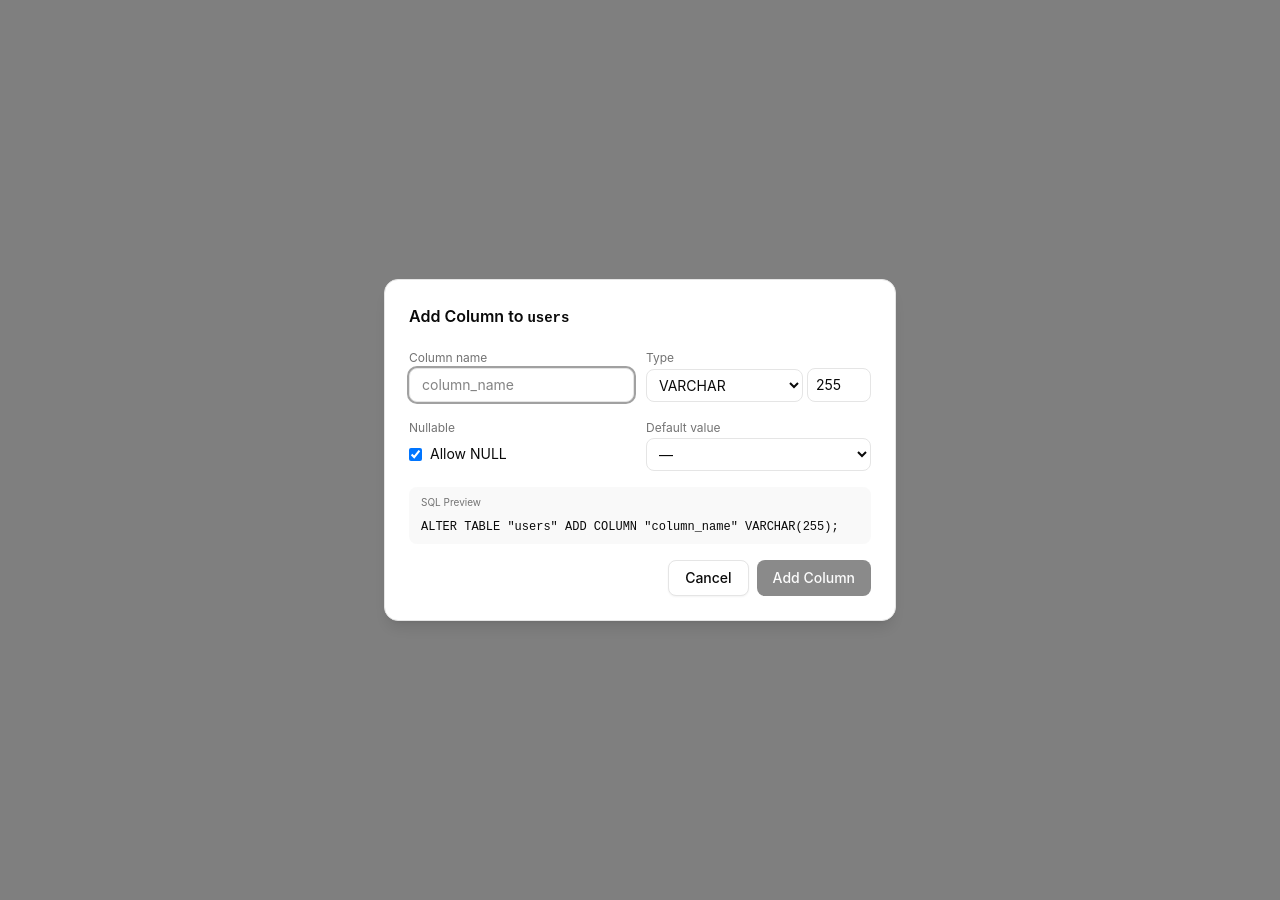
Test: SQL preview — postgres quoting › includes DEFAULT with literal value
Type "email" into the field with placeholder "column_name" at (522,385), box [409,368,634,402]
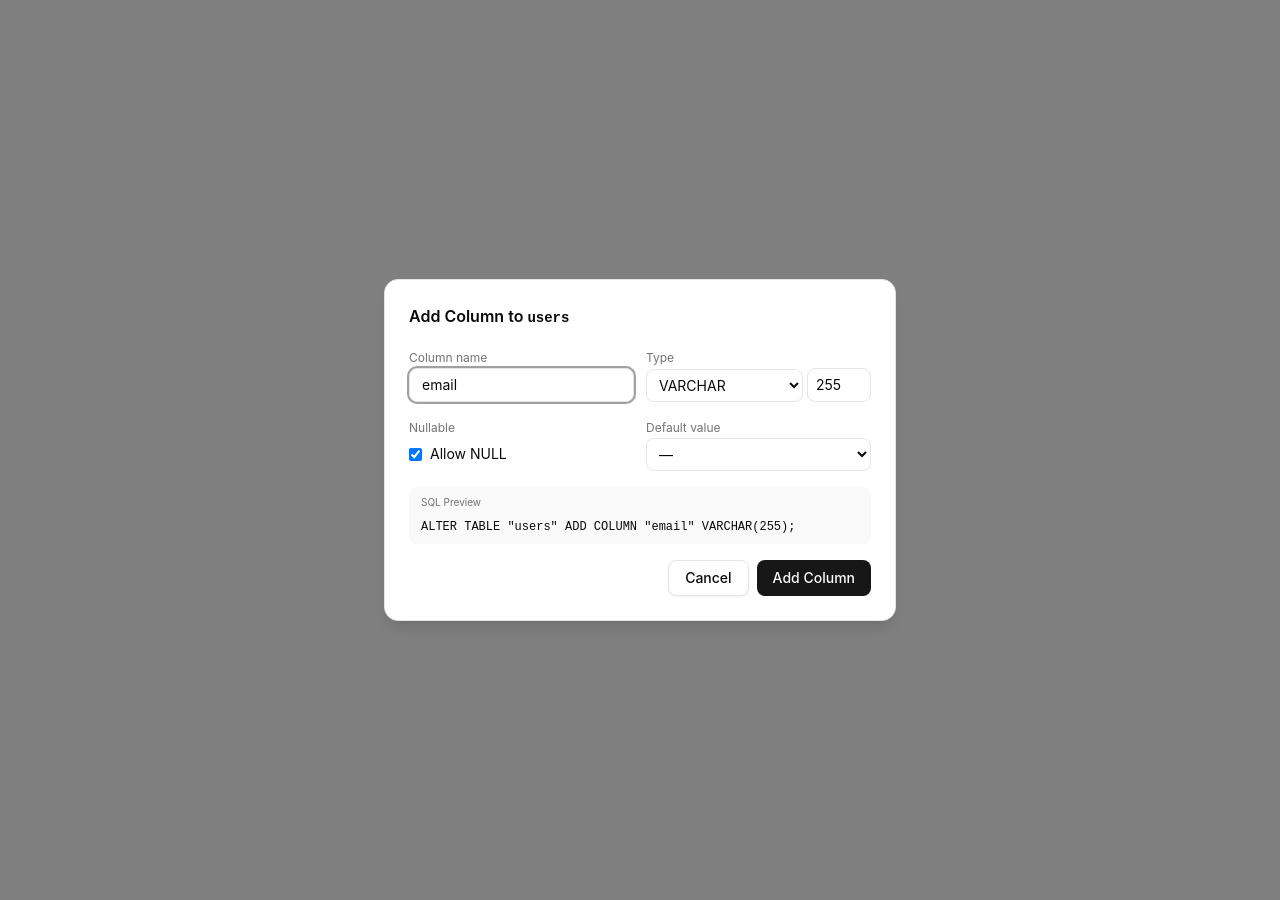
Note: Switch default mode to 'literal'
Select "Value" in the dropdown below "Default value" at (758,454), box [646,438,871,471]
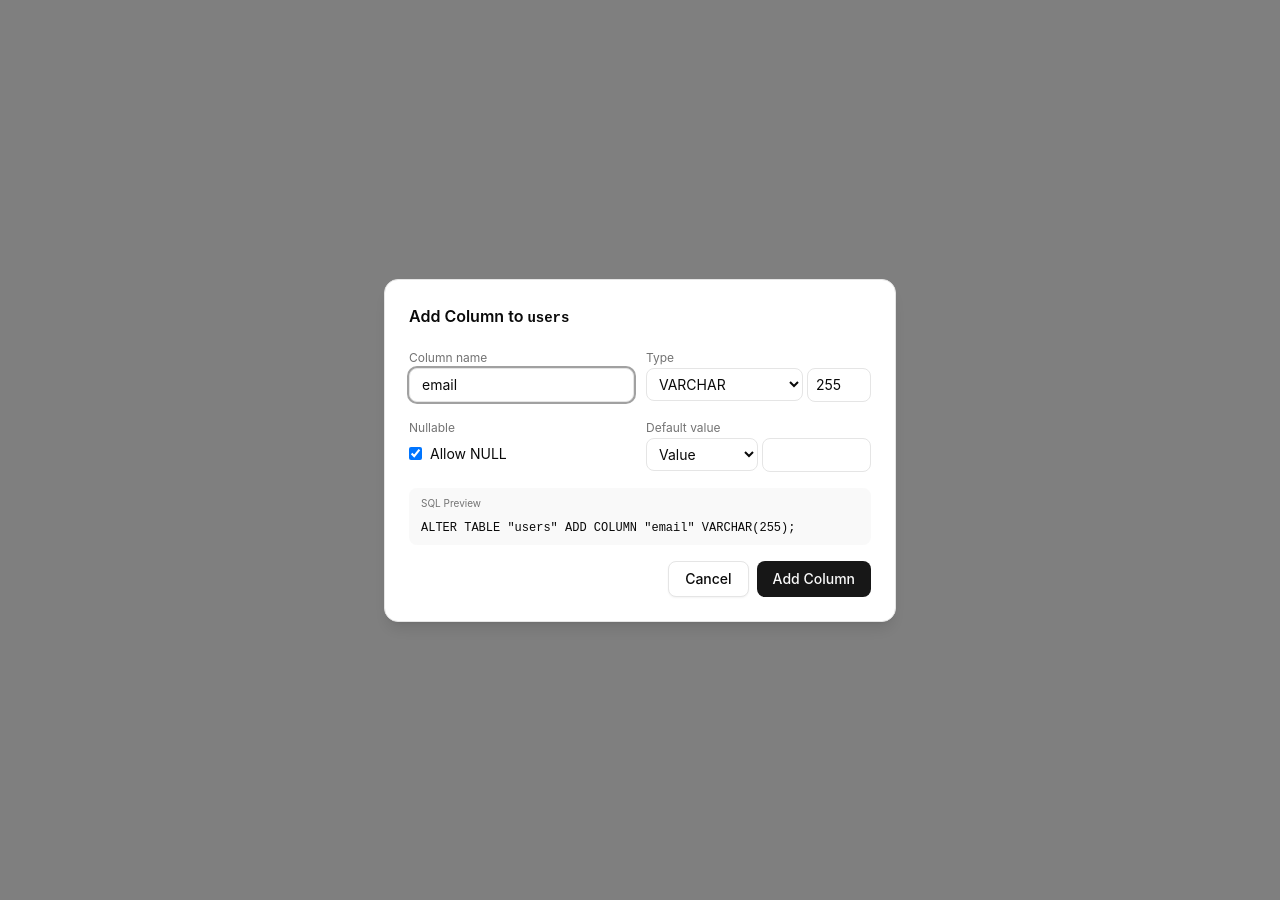
Note: Type a default value
Type "hello@example.com" into the field below "Default value" at (816,454), box [762,438,871,472]
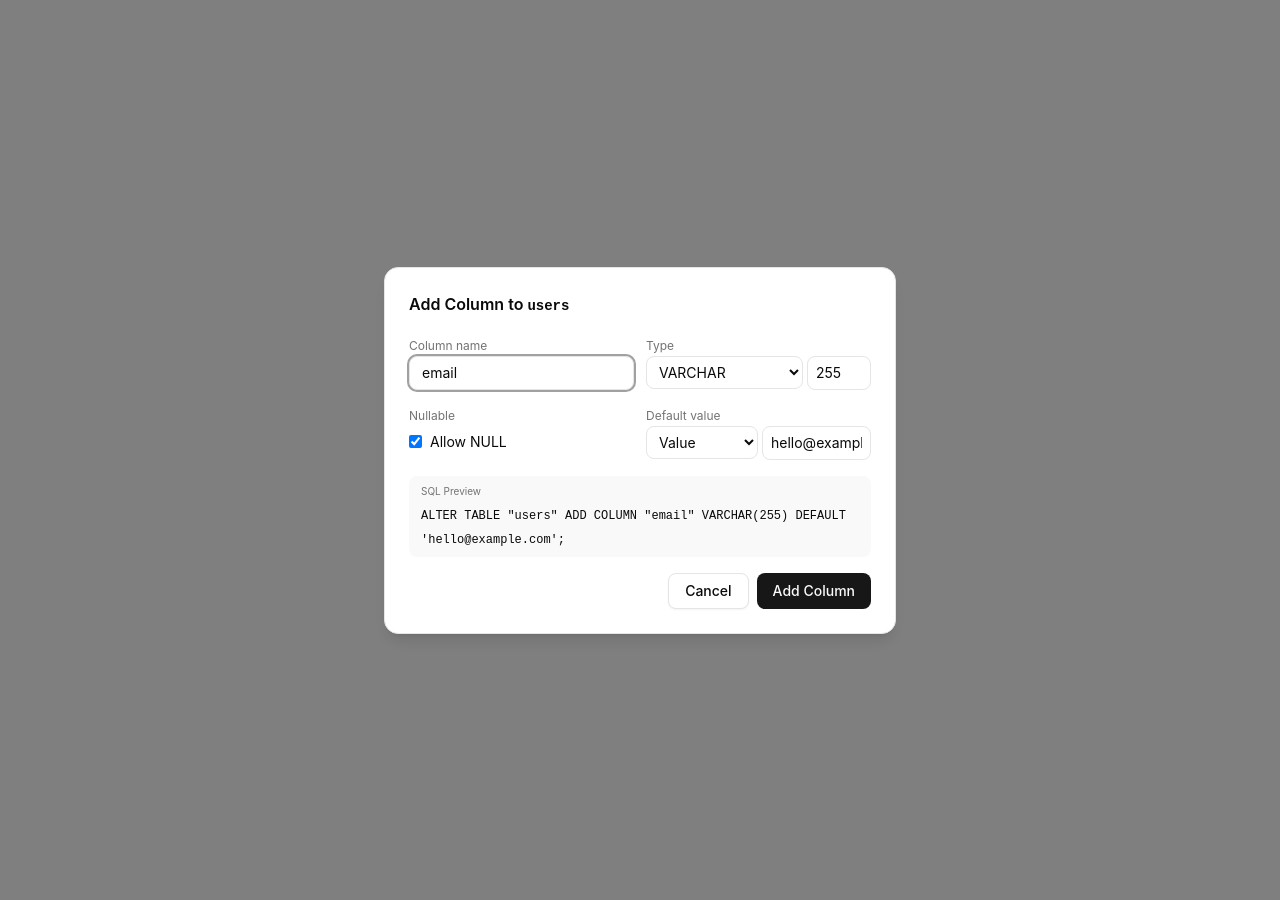
Expected: the text "ALTER TABLE" shows "DEFAULT 'hello@example.com'", [421,508,846,546]
